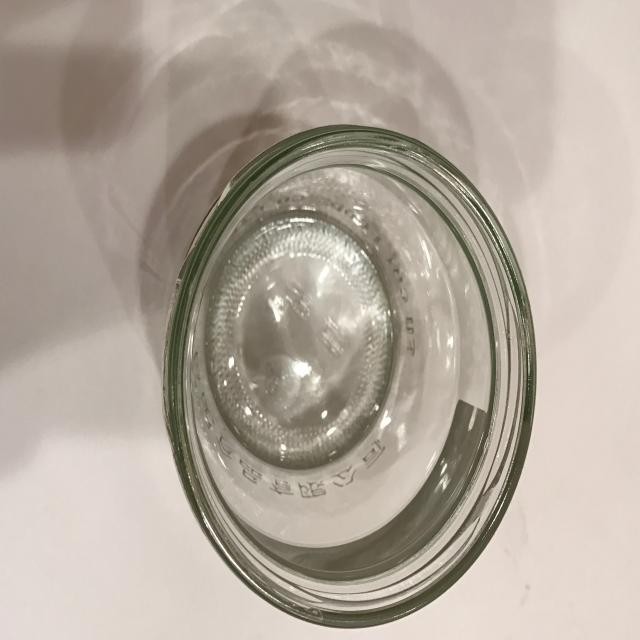glass: (164, 120, 538, 630)
